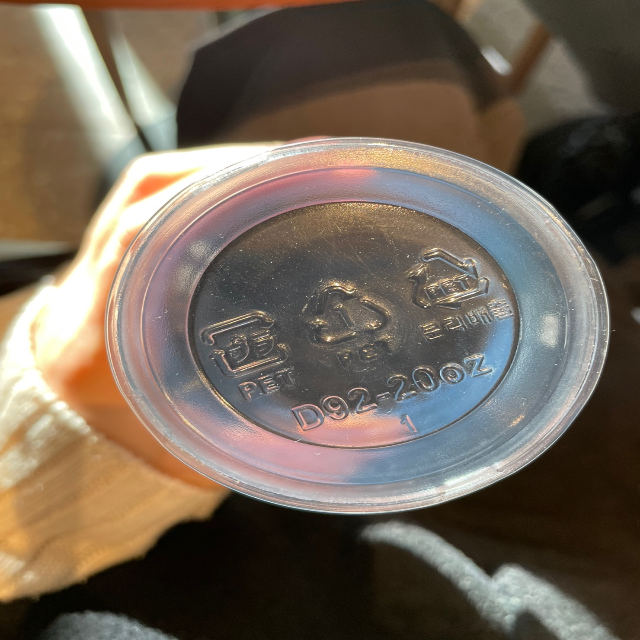pet: (396, 232, 527, 344), (199, 302, 303, 399), (295, 276, 403, 369)
